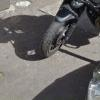Motorcycle: (37, 1, 100, 64)
